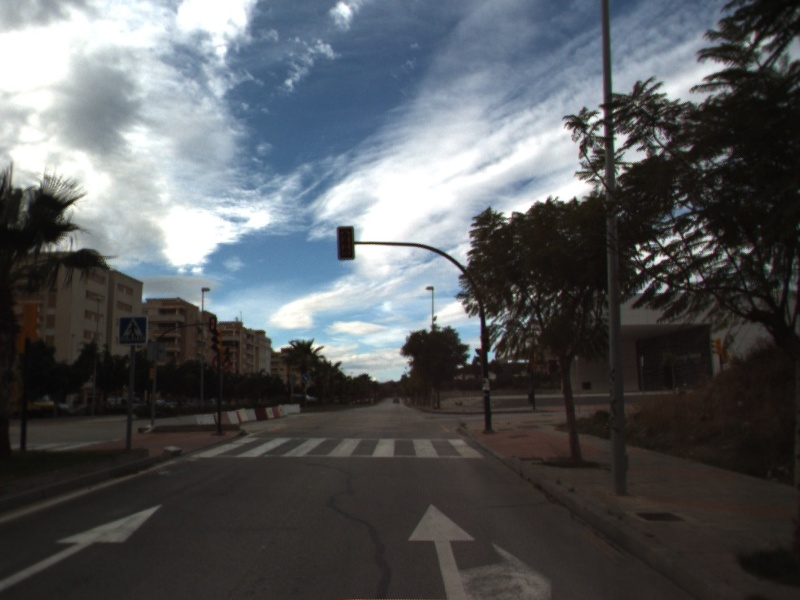STRAIGHT: (1, 503, 164, 592)
STRAIGHT_RIGHT: (406, 501, 555, 600)
